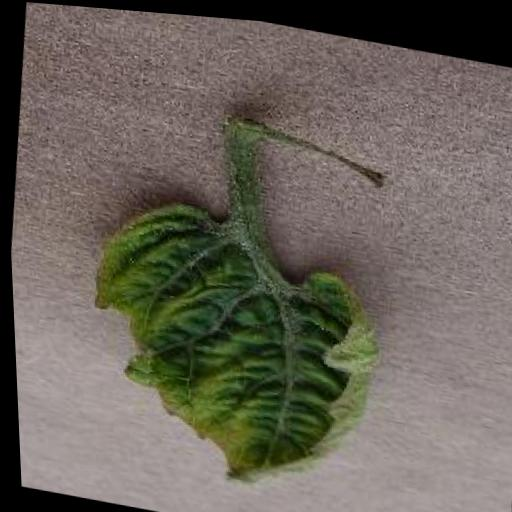Yellow Leaf Curl Virus: (70, 184, 396, 505)
